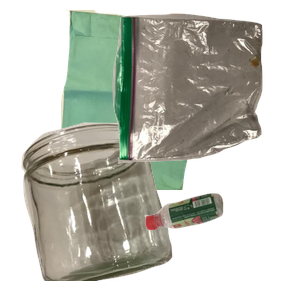glass: (19, 120, 184, 300)
paper: (55, 10, 255, 190)
plastic: (142, 191, 300, 300)
trash: (110, 11, 300, 167)
